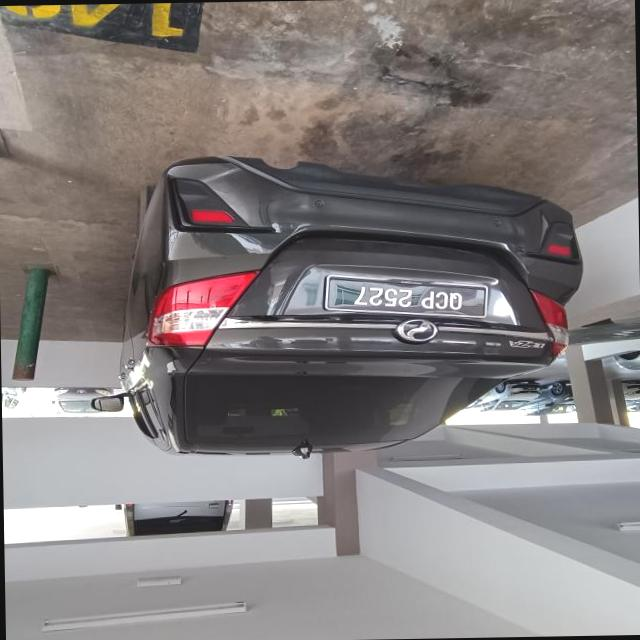PeroduaBezza: (88, 148, 588, 462)
